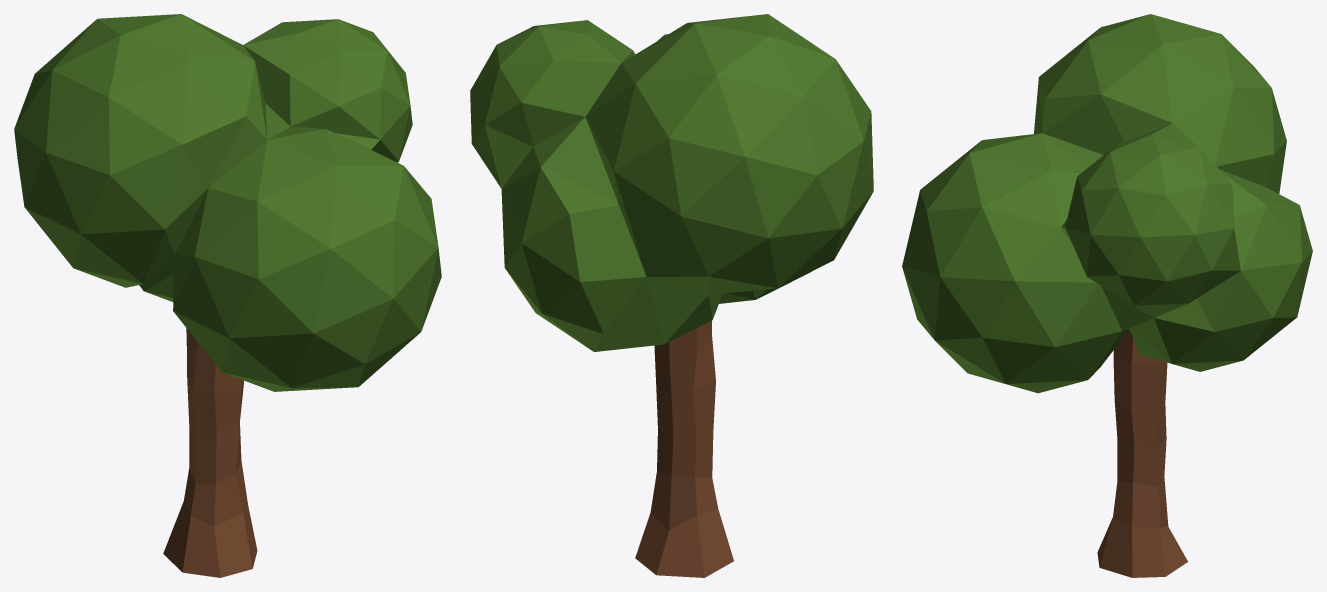
File: Tree3.obj
3 views of the same model, side by side, from view 1: azimuth 30°, elevation 25°; view 2: azimuth 150°, elevation 25°; view 3: azimuth 270°, elevation 25° (orthographic). The views are drawn at different scales.
Visible parts, largest first — view 1: drzewo.008; view 2: drzewo.008; view 3: drzewo.008.
Part boxes in pixels (bbox=[...]): drzewo.008: bbox=[14, 14, 441, 577]; drzewo.008: bbox=[470, 14, 873, 577]; drzewo.008: bbox=[902, 14, 1312, 577].
Bounding box in the file's own units: 4.38 × 6.21 × 4.57.
